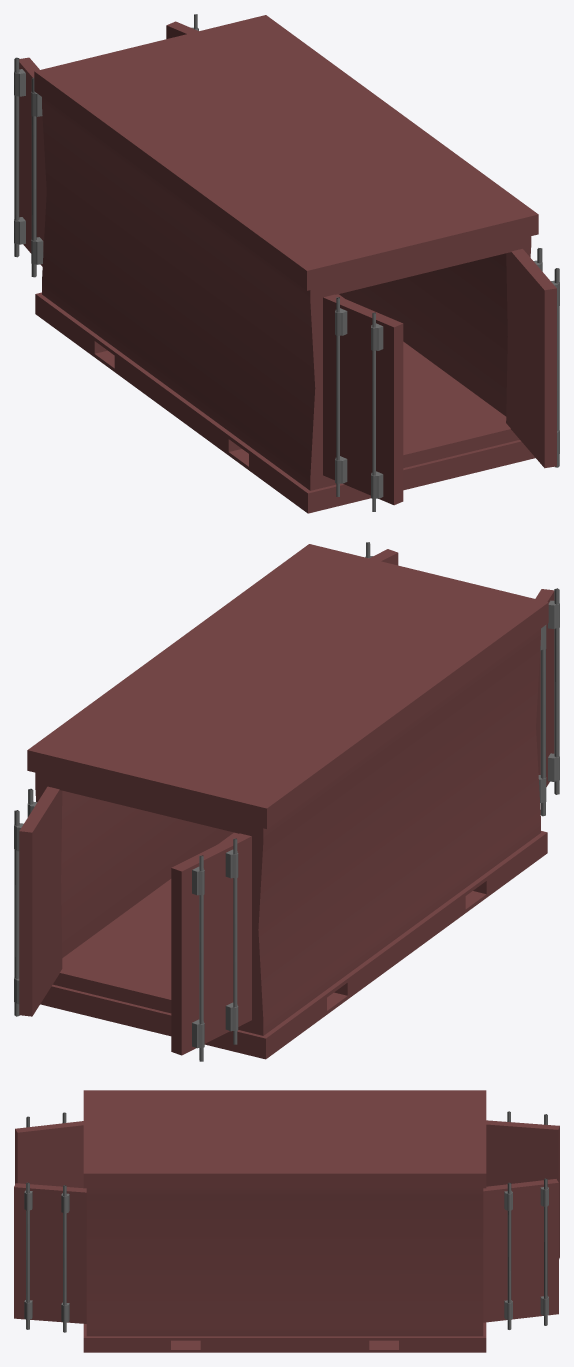
Rendered from shipping container full open.fbx.
The picture shows the model from 3 angles, top to bottom: view 1: azimuth 30°, elevation 25°; view 2: azimuth 150°, elevation 25°; view 3: azimuth 270°, elevation 25°; orthographic projection. The views are drawn at different scales.
Visible parts, largest first — view 1: polySurface65, polySurface68, polySurface66, polySurface69; view 2: polySurface65, polySurface69, polySurface67, polySurface68; view 3: polySurface65, polySurface67, polySurface66, polySurface69, polySurface68.
Part boxes in pixels (bbox=[...]): polySurface65: bbox=[34, 15, 538, 513]; polySurface68: bbox=[323, 294, 403, 511]; polySurface66: bbox=[506, 248, 559, 468]; polySurface69: bbox=[14, 57, 46, 277]; polySurface65: bbox=[27, 544, 548, 1059]; polySurface69: bbox=[171, 833, 251, 1061]; polySurface67: bbox=[14, 786, 62, 1016]; polySurface68: bbox=[535, 588, 559, 816]; polySurface65: bbox=[83, 1090, 486, 1352]; polySurface67: bbox=[483, 1178, 558, 1329]; polySurface66: bbox=[14, 1182, 86, 1332]; polySurface69: bbox=[486, 1111, 559, 1258]; polySurface68: bbox=[15, 1112, 83, 1188].
Bounding box in the file's own units: 9.99 × 10.01 × 27.61.
